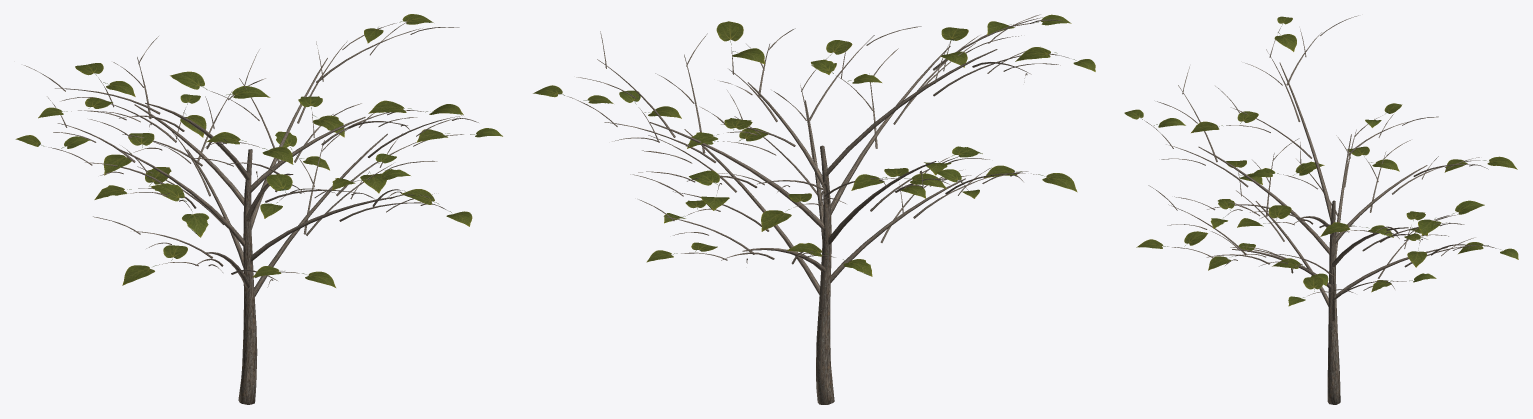
The model's file is broussonetia-5.glb.
The picture shows the model from 3 angles, left to right: view 1: azimuth 30°, elevation 25°; view 2: azimuth 150°, elevation 25°; view 3: azimuth 270°, elevation 25°; orthographic projection. The views are drawn at different scales.
Parts seen in each view (by area): view 1: bark, leaf; view 2: bark, leaf; view 3: bark, leaf.
Part boxes in pixels (left/top/right/bottom): bark: left=24, top=20, right=478, bottom=404; leaf: left=15, top=14, right=502, bottom=287; bark: left=567, top=14, right=1069, bottom=404; leaf: left=533, top=14, right=1095, bottom=276; bark: left=1144, top=15, right=1496, bottom=404; leaf: left=1124, top=16, right=1518, bottom=306.
Size of the model in its own units: 3.21 by 2.44 by 2.87.
Materials: 5 (4 with a texture image).
